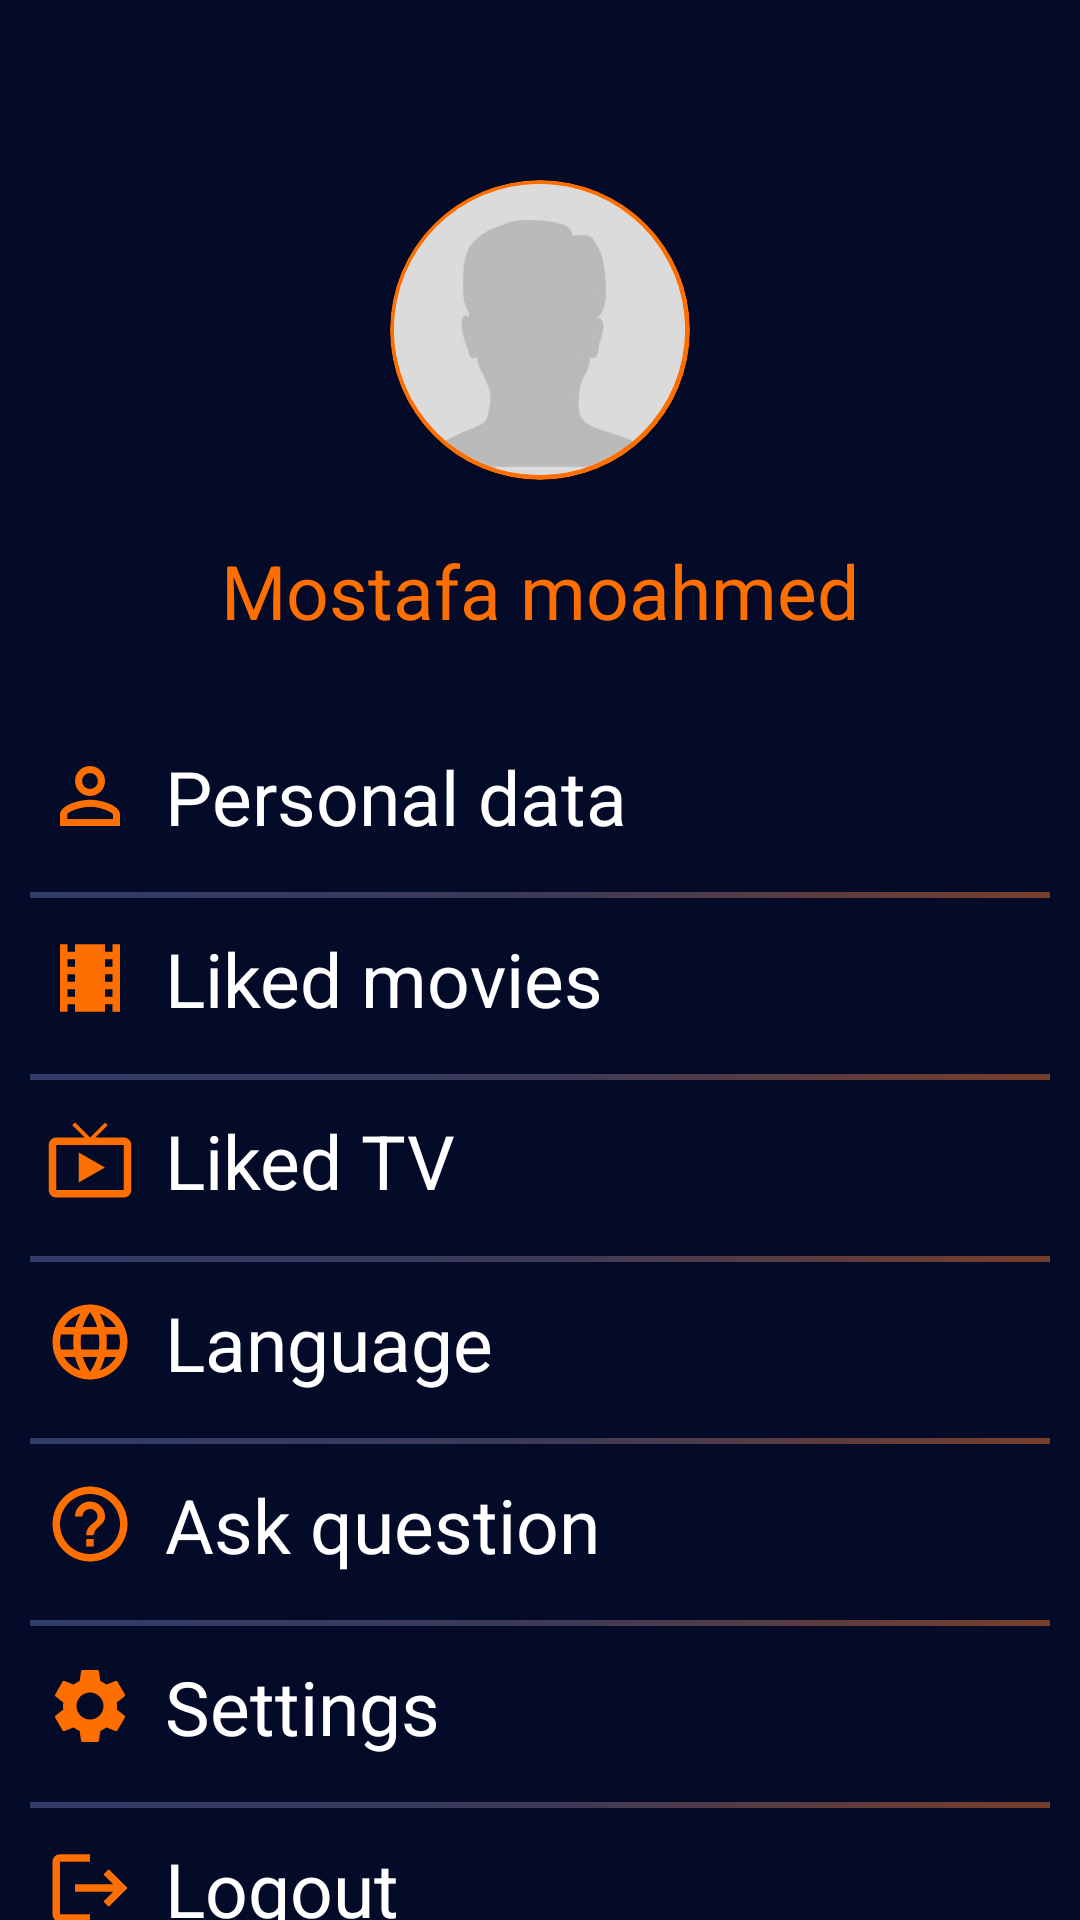

Where icons sit on this 1080×1920 app screen, as Rect(x1, y1, x2, y2):
defult pic: Rect(394, 184, 685, 475)
